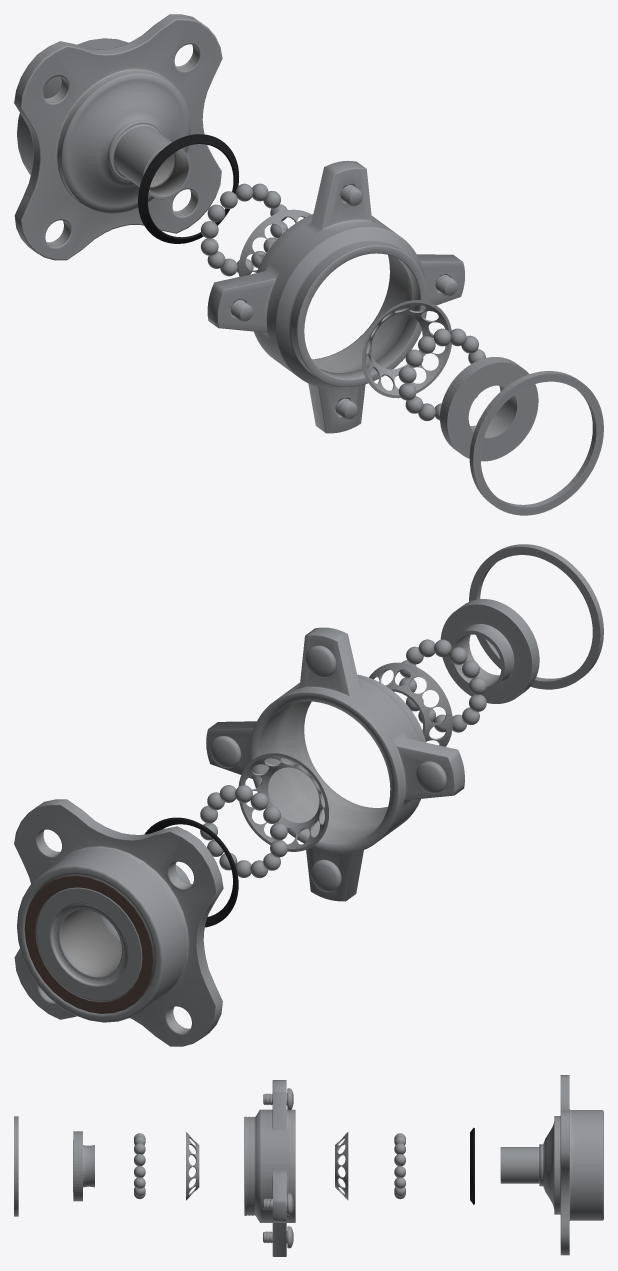
Rendered from hub_3.1_Exploded View.fbx.
The picture shows the model from 3 angles, top to bottom: view 1: azimuth 30°, elevation 25°; view 2: azimuth 150°, elevation 25°; view 3: azimuth 270°, elevation 25°; orthographic projection. The views are drawn at different scales.
Visible parts, largest first — view 1: Inner ring, Outer ring, B1 ring, Cylinder.008, balls_1, plastic cage, balls_2, Seal S1, Plastic Cage 1; view 2: Inner ring, Outer ring, B1 ring, Cylinder.008, balls_1, balls_2, Plastic Cage 1, plastic cage, Seal S1, Bolt.004, Bolt.002, Bolt.001 (+1 smaller); view 3: Inner ring, Outer ring, B1 ring, balls_1, balls_2, Plastic Cage 1, plastic cage, Cylinder.008, Seal S1, Bolt.004, Bolt.001, Bolt.003.
Part boxes in pixels (x1,y1,x2,y2): Inner ring: (14,14,222,260); Outer ring: (207,160,464,433); B1 ring: (440,357,538,461); Cylinder.008: (469,371,603,515); balls_1: (200,183,287,276); plastic cage: (362,300,451,398); balls_2: (398,328,485,421); Seal S1: (138,134,238,243); Plastic Cage 1: (238,209,310,276); Inner ring: (14,799,223,1046); Outer ring: (206,627,464,901); B1 ring: (440,599,539,703); Cylinder.008: (469,544,603,689); balls_1: (200,785,287,878); balls_2: (399,639,486,732); Plastic Cage 1: (238,753,328,851); plastic cage: (369,662,452,746); Seal S1: (144,817,238,927); Bolt.004: (305,645,336,677); Bolt.002: (416,761,446,793); Bolt.001: (210,736,241,768); Inner ring: (500,1075,603,1255); Outer ring: (244,1080,295,1256); B1 ring: (73,1131,94,1201); balls_1: (394,1133,405,1199); balls_2: (134,1133,145,1199); Plastic Cage 1: (335,1132,348,1200); plastic cage: (186,1132,199,1200); Cylinder.008: (14,1116,18,1216); Seal S1: (470,1127,474,1204); Bolt.004: (263,1088,293,1110); Bolt.001: (263,1193,293,1215); Bolt.003: (263,1226,293,1248).
Size of the model in its own units: 267 by 269 by 836.
